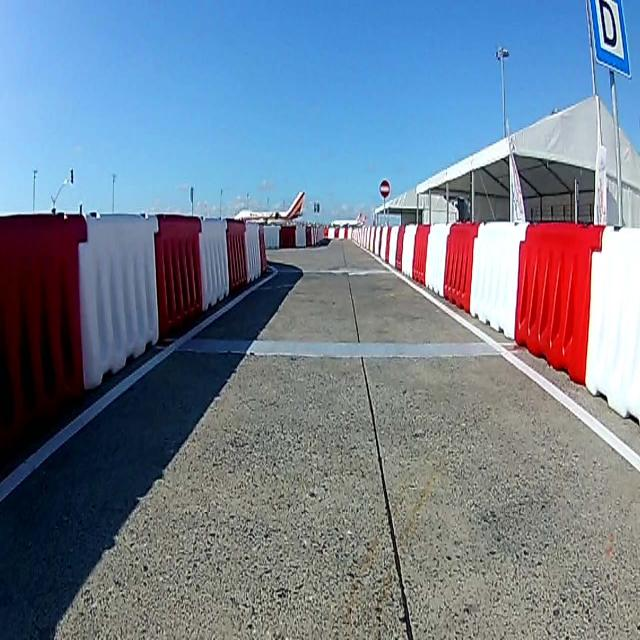durak: (590, 1, 632, 81)
girisyok: (379, 178, 391, 198)
